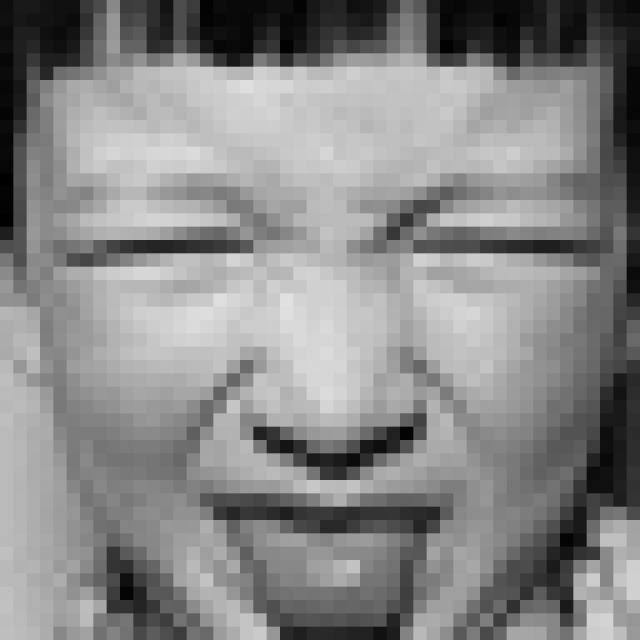disgust: (70, 171, 595, 640)
